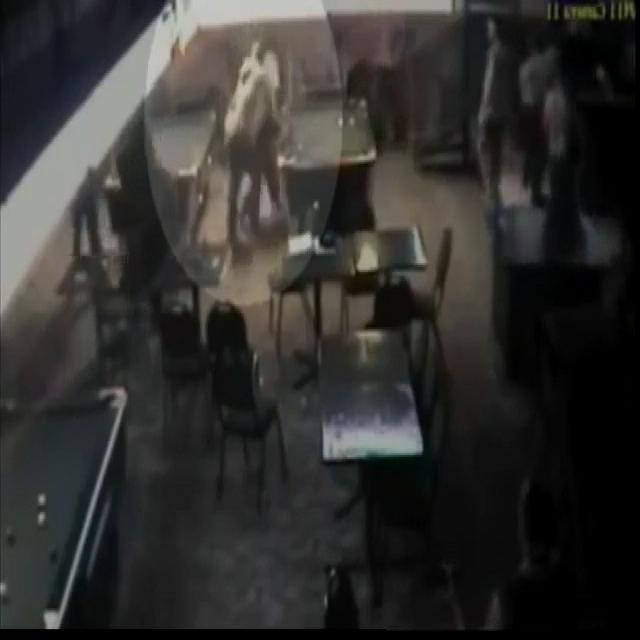fight: (188, 25, 310, 266)
